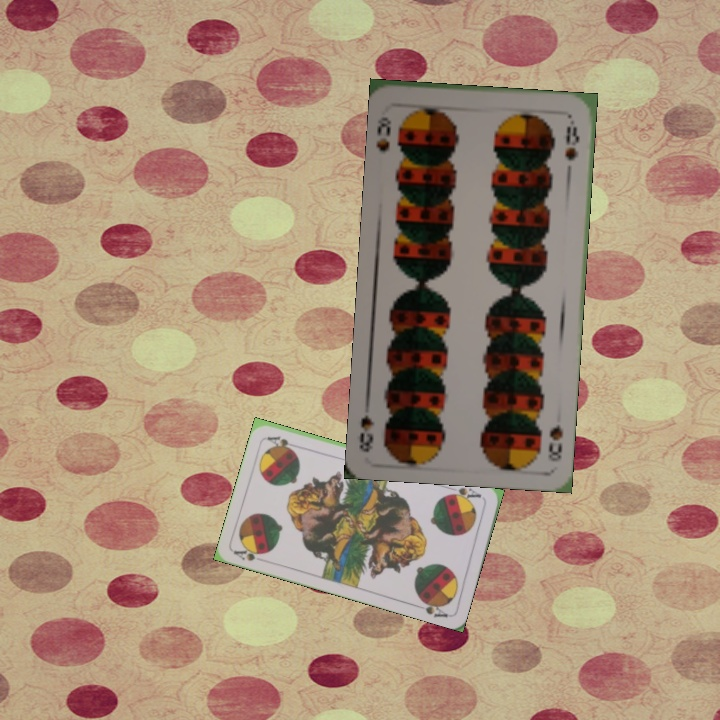S8: (544, 420, 565, 464), (372, 112, 393, 155)
SA: (230, 543, 270, 565), (444, 483, 484, 504)
